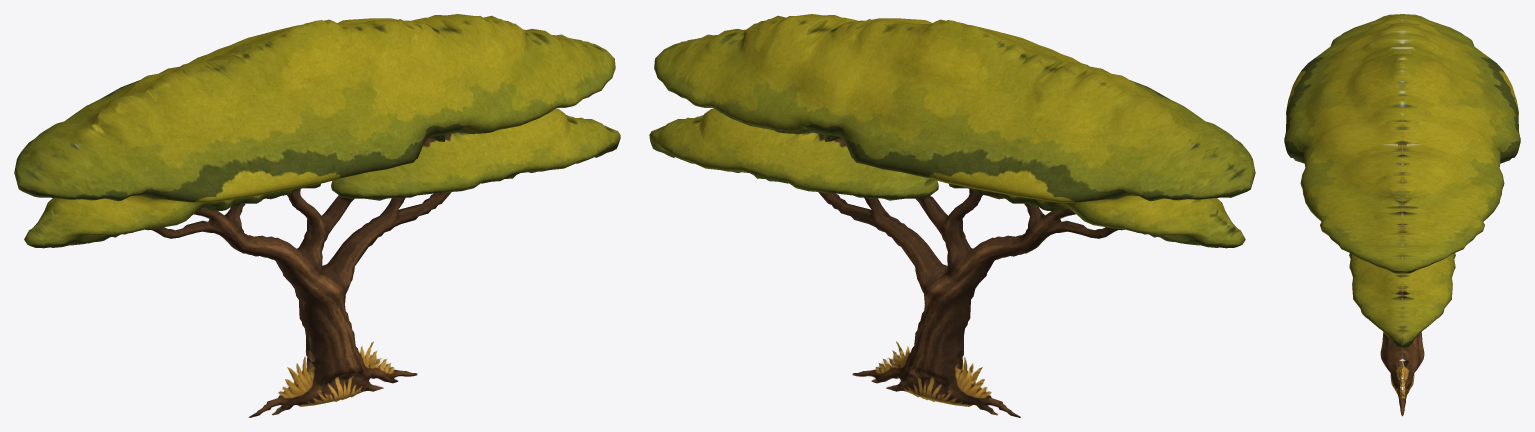
File: layers_props_11_tree_acacia_big.glb
3 renders of one model, left to right at view 1: azimuth 30°, elevation 25°; view 2: azimuth 150°, elevation 25°; view 3: azimuth 270°, elevation 25°, orthographic. The views are drawn at different scales.
Parts seen in each view (by area): view 1: layers_props_11_tree_acacia_big; view 2: layers_props_11_tree_acacia_big; view 3: layers_props_11_tree_acacia_big.
Boxes of the visible parts, <box> form: layers_props_11_tree_acacia_big: <box>14,14,620,417</box>; layers_props_11_tree_acacia_big: <box>649,14,1255,417</box>; layers_props_11_tree_acacia_big: <box>1284,14,1520,416</box>.
Bounding box in the file's own units: 14.92 × 9.11 × 6.13.
Materials: 1 (1 with a texture image).
